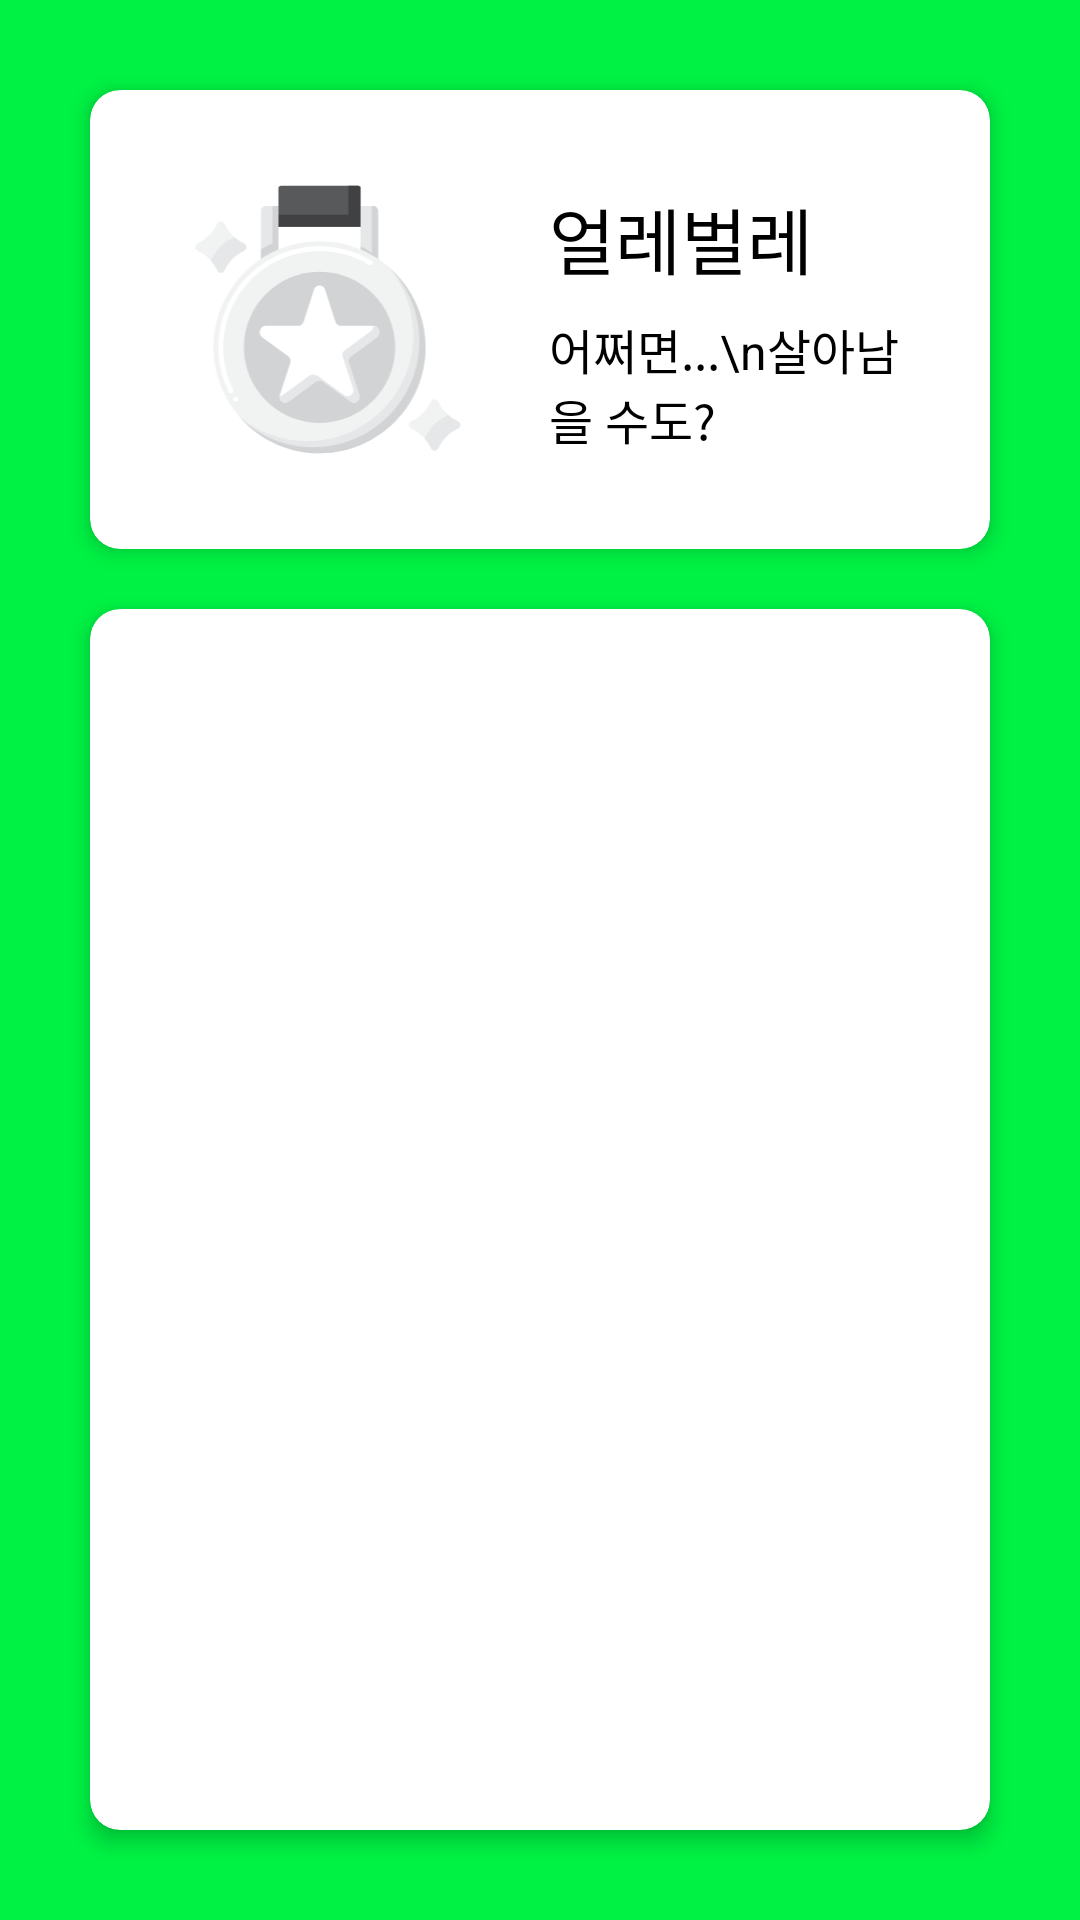

Icon bounding boxes for this 1080 x 1920 phone screenshot, format region(x1, y1, x2, y2):
silver medal: region(212, 185, 459, 453)
